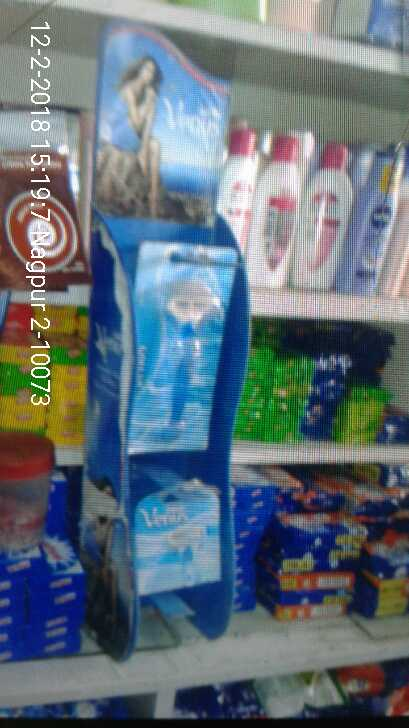venus: (133, 240, 233, 452), (135, 487, 224, 587)
